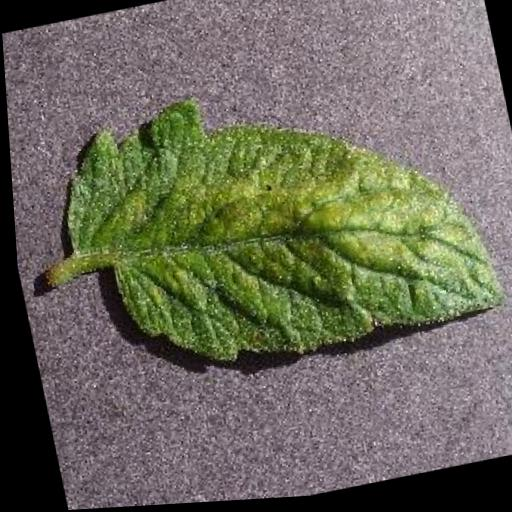Spider Mites: (37, 47, 508, 396)
